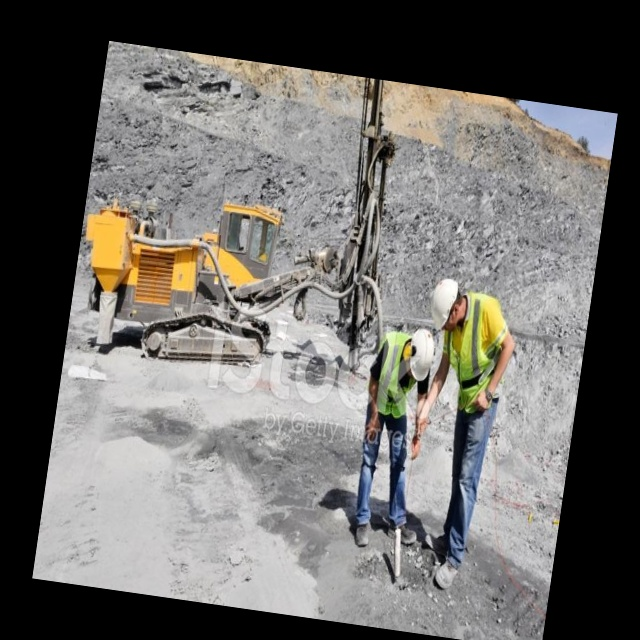Con_Chaleco: (443, 290, 516, 412), (369, 328, 418, 420)
